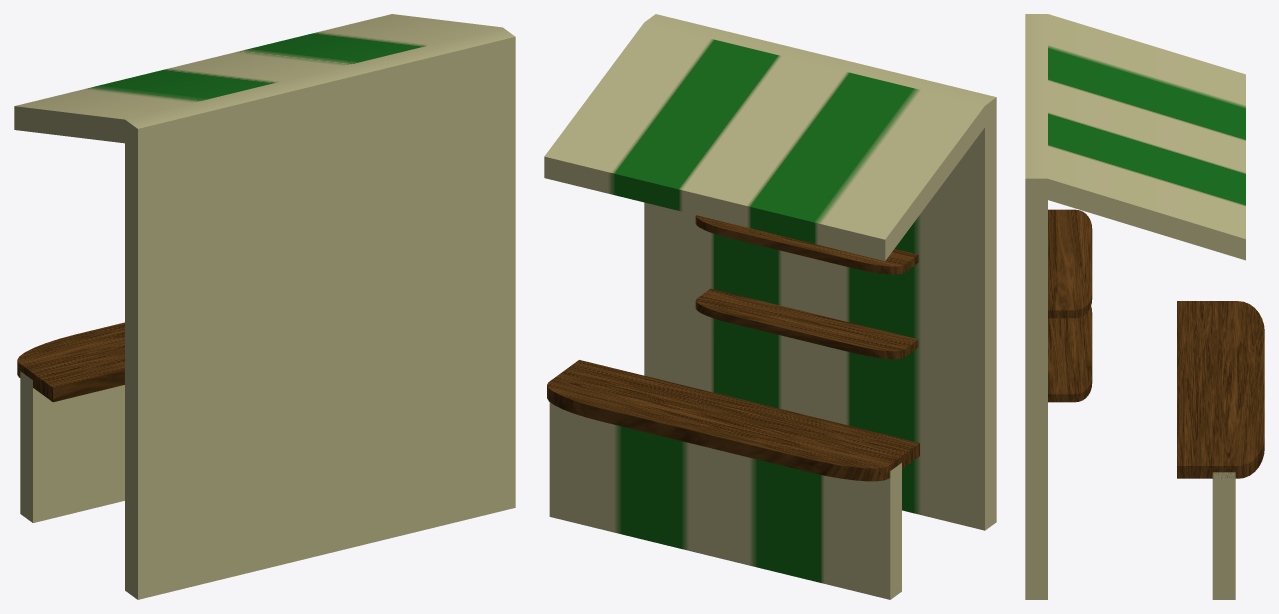
File: stanek1.fbx
3 views of the same model, side by side, from view 1: azimuth 30°, elevation 25°; view 2: azimuth 150°, elevation 25°; view 3: azimuth 270°, elevation 25° (orthographic). The views are drawn at different scales.
Visible parts, largest first — view 1: Cube.011; view 2: Cube.011; view 3: Cube.011.
Part boxes in pixels (<box>): Cube.011: <box>14,14,515,599</box>; Cube.011: <box>544,14,996,599</box>; Cube.011: <box>1025,14,1264,599</box>.
Size of the model in its own units: 378 by 450 by 232.
1 material, 1 textured.
